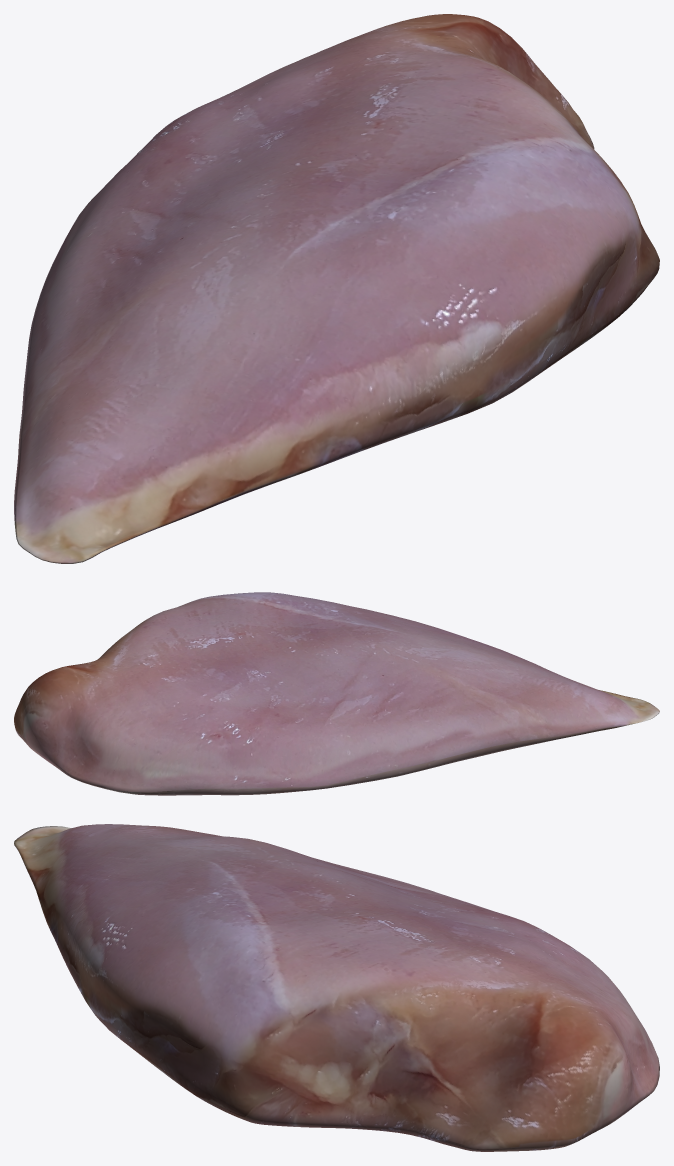
The model's file is chicken-raw.glb.
The picture shows the model from 3 angles, top to bottom: view 1: azimuth 30°, elevation 25°; view 2: azimuth 150°, elevation 25°; view 3: azimuth 270°, elevation 25°; orthographic projection. The views are drawn at different scales.
Parts seen in each view (by area): view 1: Plane.001; view 2: Plane.001; view 3: Plane.001.
Boxes of the visible parts, x1=… form: Plane.001: x1=14, y1=14, x2=659, y2=563; Plane.001: x1=14, y1=592, x2=659, y2=795; Plane.001: x1=14, y1=824, x2=659, y2=1151.
Bounding box in the file's own units: 0.15 × 0.0347 × 0.1232.
Materials: 1 (1 with a texture image).
